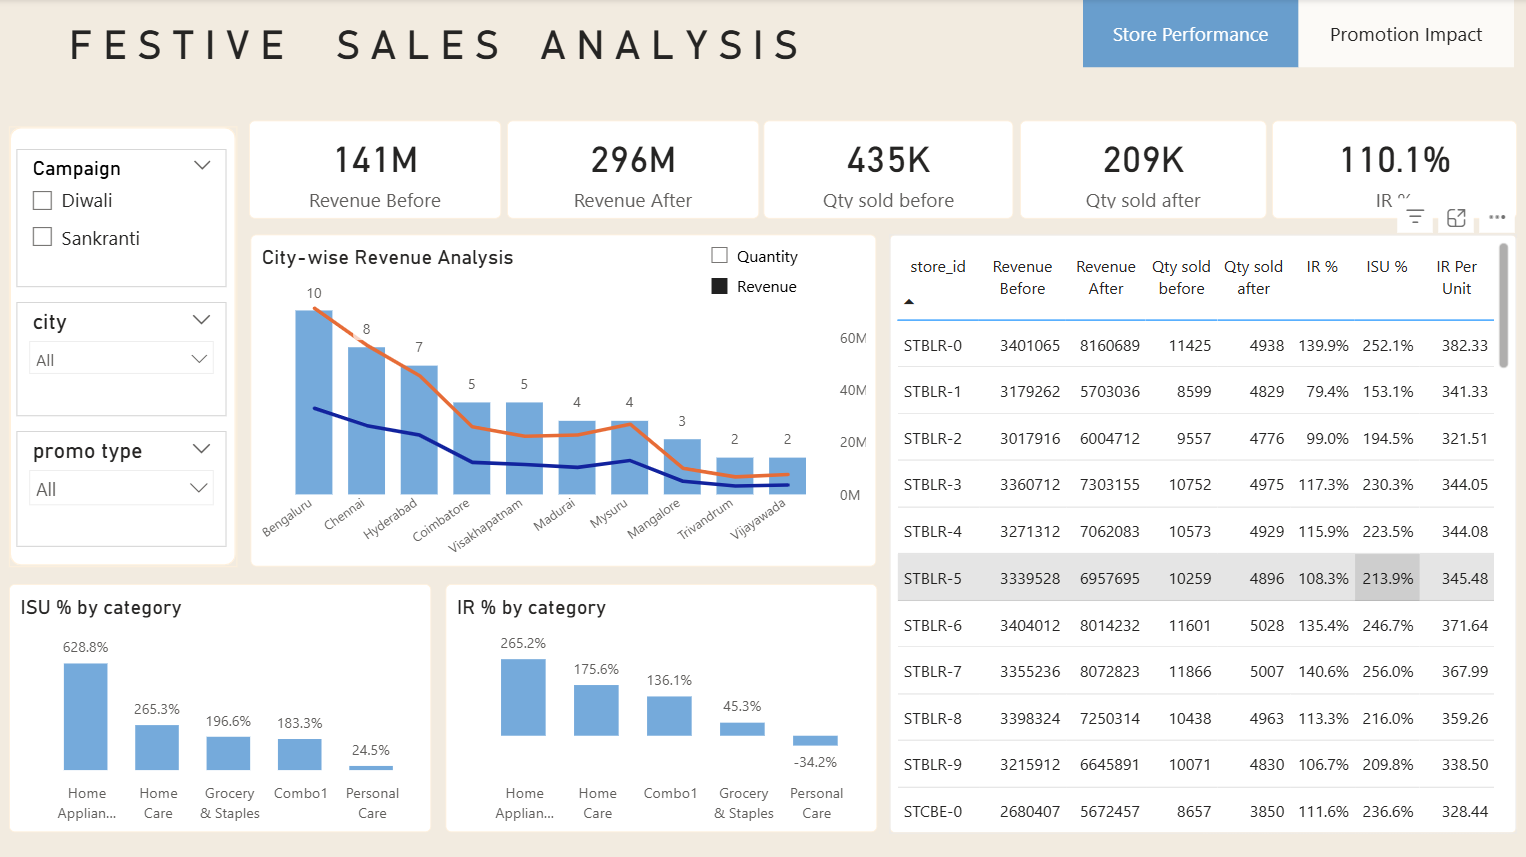

Layout of this report page (visuals, bound fields, positions):
{"tool":"powerbi","page":{"name":"Store Performance","canvas":[1280,720],"ordinal":0},"visuals":[{"type":"lineClusteredColumnComboChart","fields":{"Category":["dim_stores.city"],"Y":["CountNonNull(dim_stores.store_id)"],"Y2":["fact_events.Selected metric before","fact_events.Selected Metric After"]},"box":[212,196.8,522.4,277.1],"z":0},{"type":"card","fields":{"Values":["fact_events.Revenue Before"]},"box":[210.5,101.5,210.5,81.8],"z":1000},{"type":"card","fields":{"Values":["fact_events.Revenue After"]},"box":[425.5,101.5,210.5,81.8],"z":2000},{"type":"card","fields":{"Values":["fact_events.IR %"]},"box":[1064.5,101.5,204.4,81.8],"z":3000},{"type":"card","fields":{"Values":["fact_events.Qty sold before"]},"box":[640.5,101.5,209,81.8],"z":4000},{"type":"card","fields":{"Values":["fact_events.Qty sold after"]},"box":[854,101.5,205.9,81.8],"z":5000},{"type":"tableEx","fields":{"Values":["dim_stores.store_id","fact_events.Revenue Before","fact_events.Revenue After","fact_events.Qty sold before","fact_events.Qty sold after","fact_events.IR %","fact_events.ISU %","fact_events.IR Per Unit"]},"box":[745,196.8,523.9,499.7],"z":6000},{"type":"clusteredColumnChart","fields":{"Category":["dim_products.category"],"Y":["fact_events.IR %"]},"box":[374,489.1,360.4,207.4],"z":7000},{"type":"clusteredColumnChart","fields":{"Category":["dim_products.category"],"Y":["fact_events.ISU %"]},"box":[10.6,489.1,352.8,207.4],"z":8000},{"type":"textbox","box":[54.5,13.6,679.9,71.2],"z":9000},{"type":"pageNavigator","box":[907,0,361.9,57.5],"z":10000},{"type":"shape","box":[10.6,106,190.8,368],"z":11000},{"type":"slicer","fields":{"Values":["dim_campaigns.campaign_name"]},"box":[16.7,125.7,175.6,115.1],"z":12000},{"type":"slicer","fields":{"Values":["dim_stores.city"]},"box":[16.7,252.9,175.6,95.4],"z":13000},{"type":"slicer","fields":{"Values":["fact_events.promo_type"]},"box":[16.7,360.4,175.6,96.9],"z":14000},{"type":"slicer","fields":{"Values":["Metric Selector.Column1"]},"box":[584.5,196.8,149.9,75.7],"z":15000}]}

Visuals, with their boxes in screenshot pixels (x1, y1, x2, y2), scaled from the page's 1280x720 canvas onto the 1526x857 screenshot:
lineClusteredColumnComboChart - dim_stores.city x CountNonNull(dim_stores.store_id): [left=253, top=234, right=876, bottom=564]
card - fact_events.Revenue Before: [left=251, top=121, right=502, bottom=218]
card - fact_events.Revenue After: [left=507, top=121, right=758, bottom=218]
card - fact_events.IR %: [left=1269, top=121, right=1513, bottom=218]
card - fact_events.Qty sold before: [left=764, top=121, right=1013, bottom=218]
card - fact_events.Qty sold after: [left=1018, top=121, right=1264, bottom=218]
tableEx - dim_stores.store_id x fact_events.Revenue Before: [left=888, top=234, right=1513, bottom=829]
clusteredColumnChart - dim_products.category x fact_events.IR %: [left=446, top=582, right=876, bottom=829]
clusteredColumnChart - dim_products.category x fact_events.ISU %: [left=13, top=582, right=433, bottom=829]
textbox: [left=65, top=16, right=876, bottom=101]
pageNavigator: [left=1081, top=0, right=1513, bottom=68]
shape: [left=13, top=126, right=240, bottom=564]
slicer - dim_campaigns.campaign_name: [left=20, top=150, right=229, bottom=287]
slicer - dim_stores.city: [left=20, top=301, right=229, bottom=415]
slicer - fact_events.promo_type: [left=20, top=429, right=229, bottom=544]
slicer - Metric Selector.Column1: [left=697, top=234, right=876, bottom=324]
